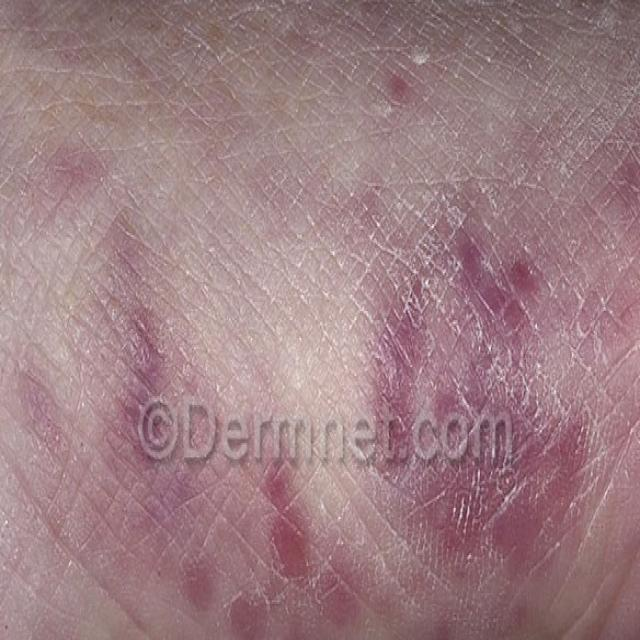Vascular Tumors: (361, 236, 585, 582), (247, 417, 349, 640), (86, 222, 171, 479), (590, 70, 640, 247), (379, 47, 424, 122)
